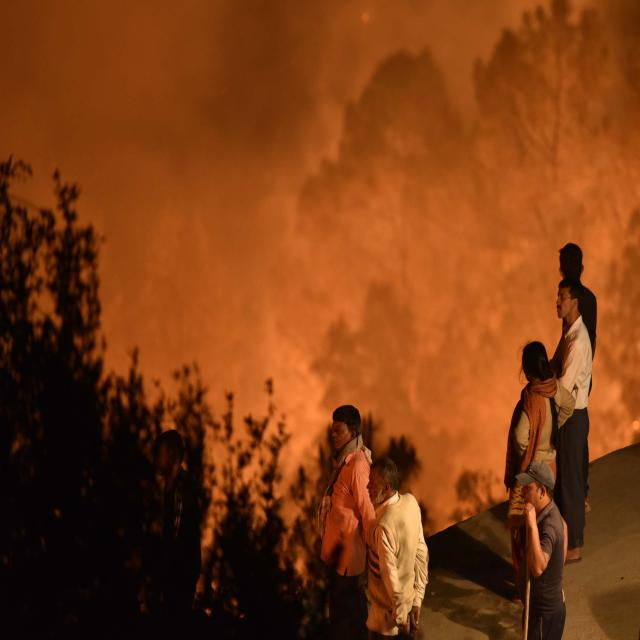Smoke: (0, 0, 508, 435)
